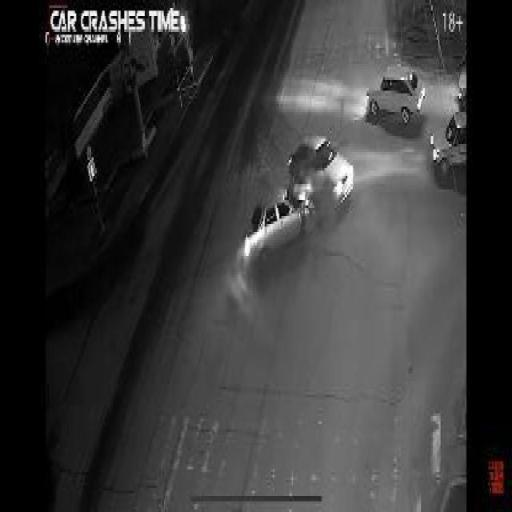小汽车: (358, 66, 428, 128), (422, 112, 476, 186)
小汽车撞小汽车: (239, 136, 356, 277)
